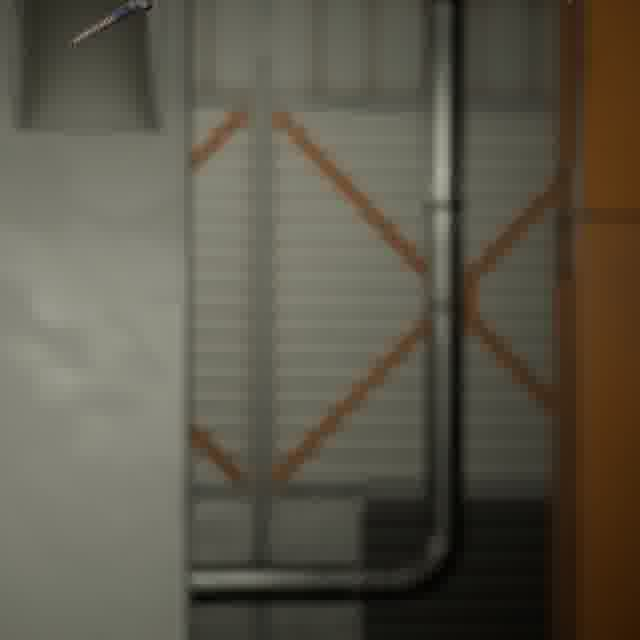bolt: (64, 0, 157, 50)
